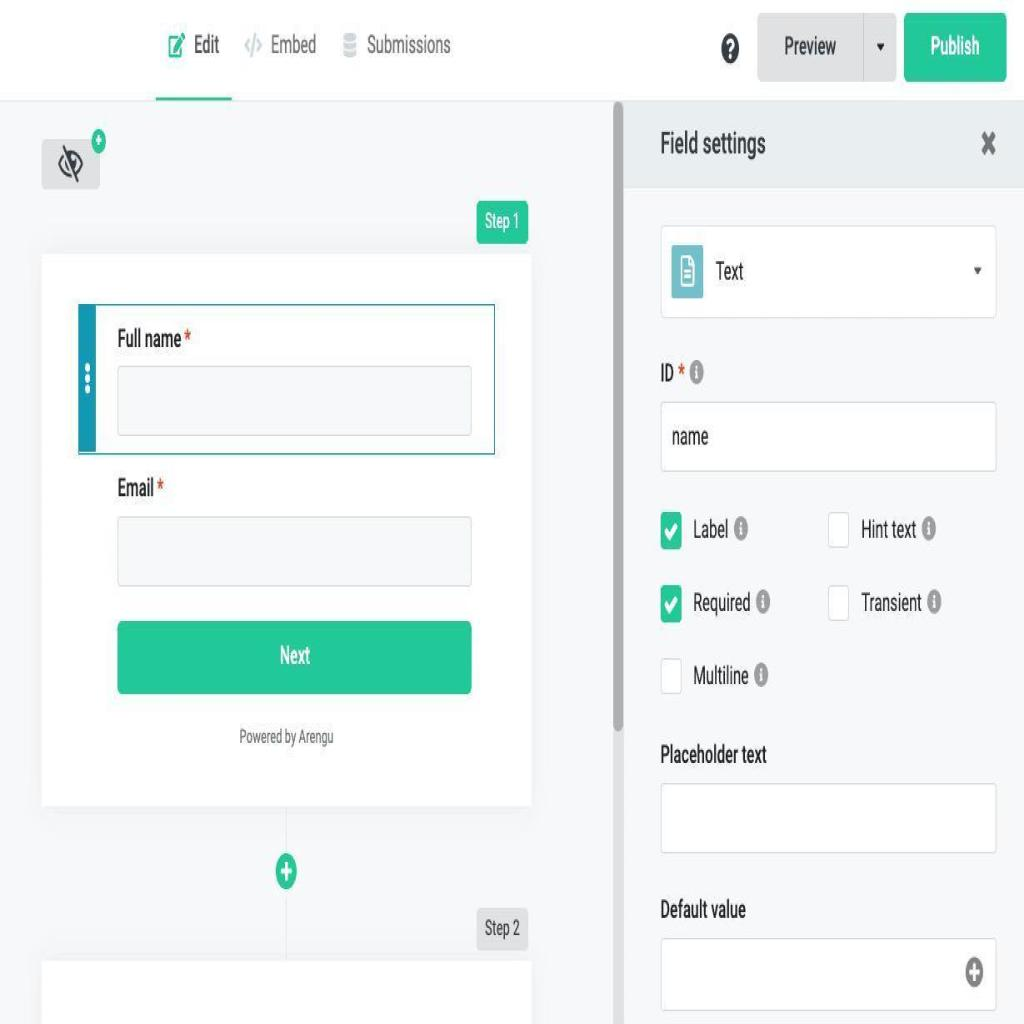button: (118, 621, 474, 697), (904, 13, 1008, 82), (476, 202, 528, 244), (480, 910, 528, 944)
checkbox: (660, 584, 682, 624), (827, 510, 849, 550), (827, 584, 850, 621), (660, 658, 682, 696), (660, 512, 682, 548)
dropdown: (662, 224, 996, 318), (757, 14, 896, 82)
icon: (672, 245, 704, 300), (964, 954, 986, 988), (980, 132, 998, 158)
input: (660, 936, 996, 1012), (118, 516, 472, 588), (118, 367, 472, 436), (660, 783, 996, 855), (662, 403, 996, 470)
label: (659, 126, 767, 161), (660, 742, 768, 764), (658, 894, 748, 920), (368, 29, 452, 56), (118, 323, 192, 351), (236, 727, 339, 747), (694, 588, 750, 621), (861, 516, 919, 546), (862, 591, 922, 618), (693, 662, 749, 690), (272, 31, 318, 56), (118, 476, 169, 498), (691, 516, 730, 544), (716, 257, 745, 287), (191, 33, 221, 54), (655, 363, 679, 384)
